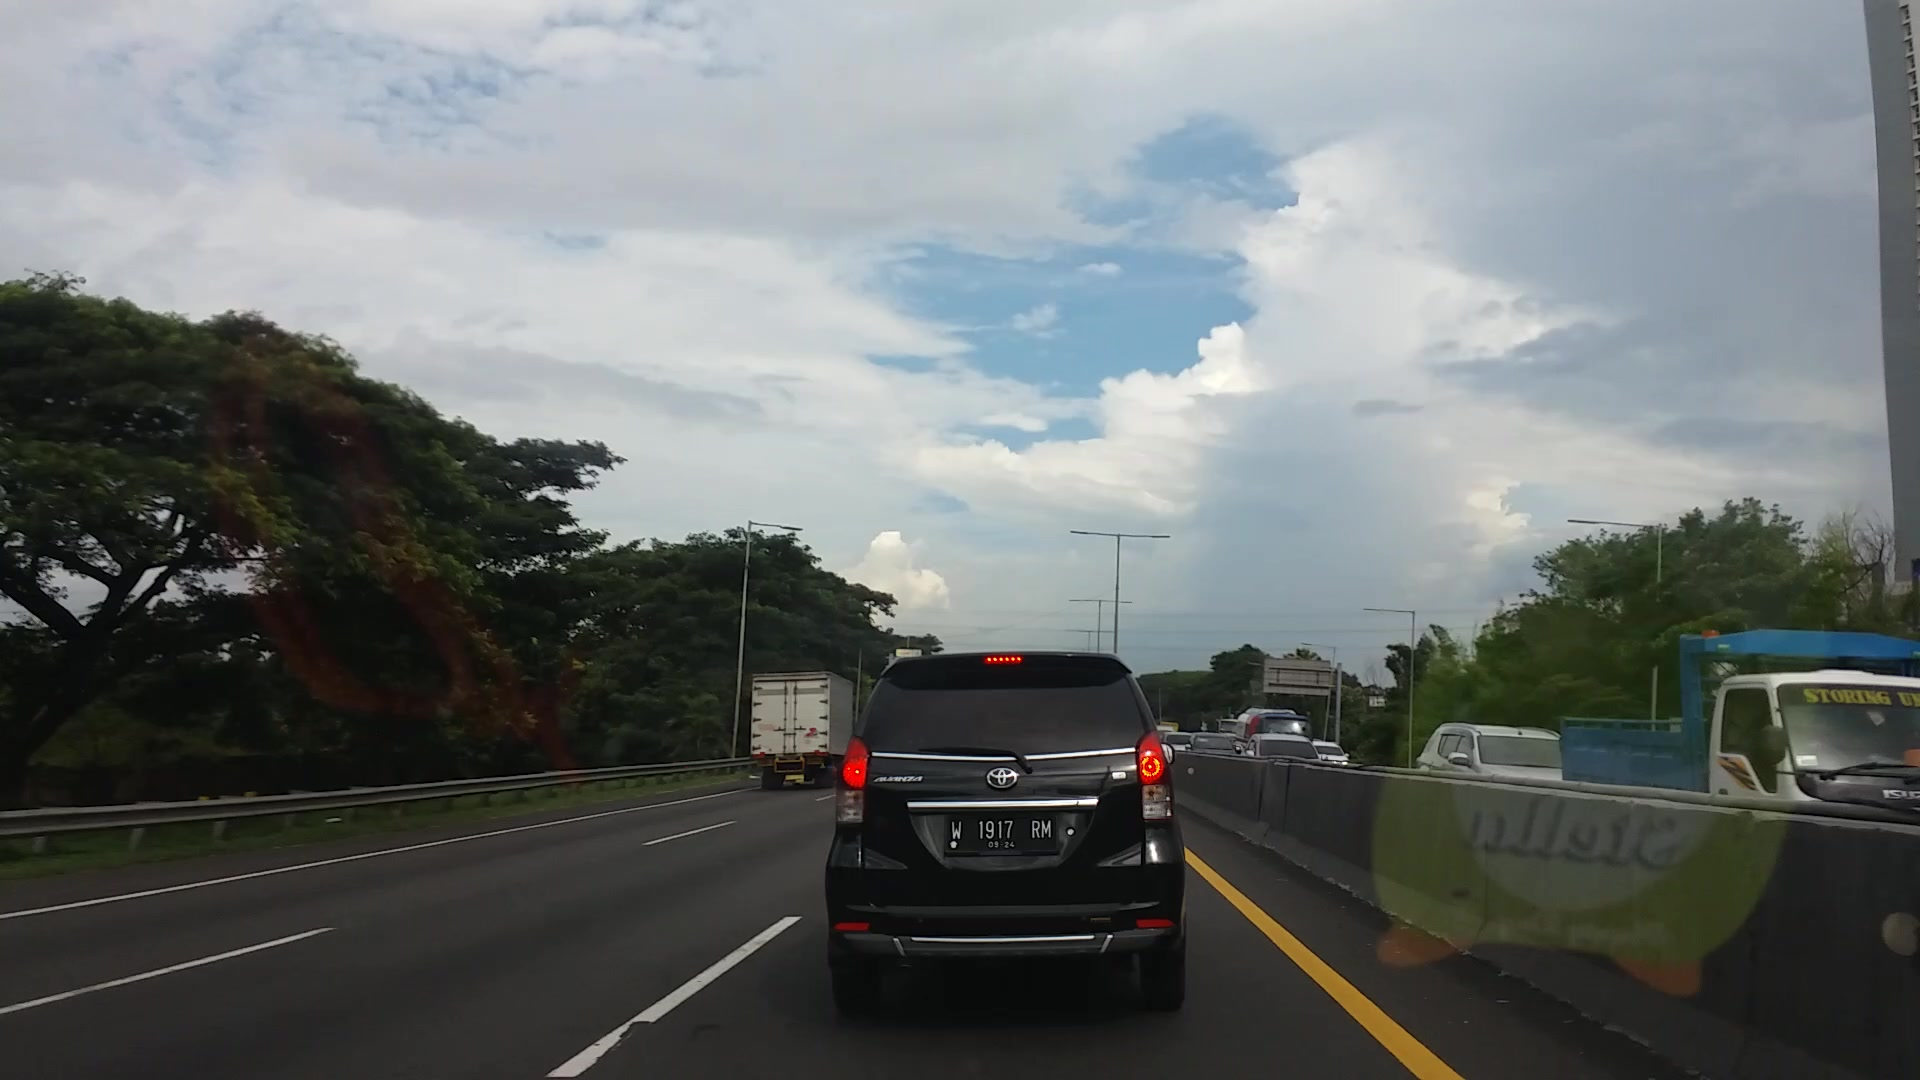plate_positive: (944, 814, 1058, 855)
